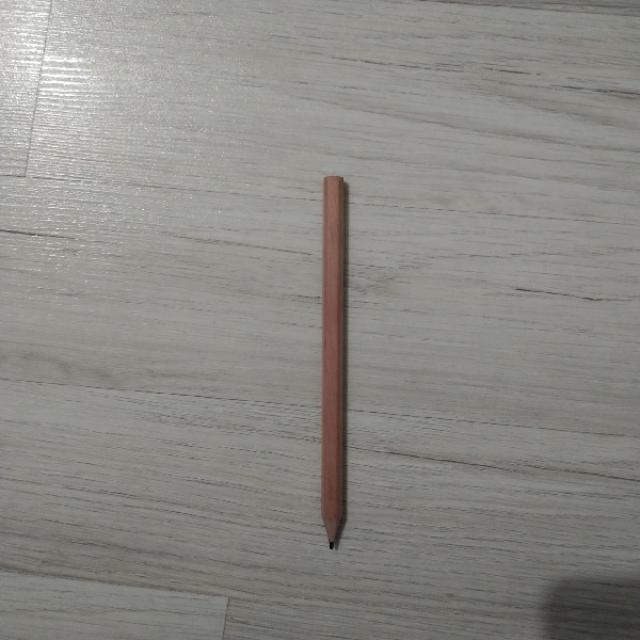pencil: (322, 176, 344, 548)
